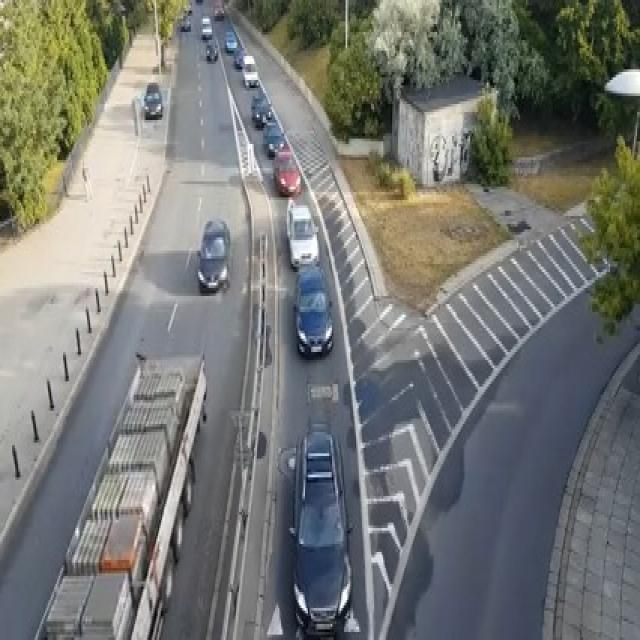bus: (31, 350, 208, 638)
car: (288, 426, 352, 634), (293, 264, 333, 357), (197, 219, 230, 293), (286, 198, 318, 270), (272, 149, 300, 195), (143, 83, 162, 117), (252, 96, 272, 128), (242, 54, 258, 86), (267, 128, 284, 155), (206, 38, 218, 62), (224, 29, 237, 51), (233, 45, 246, 67), (200, 16, 212, 37), (180, 13, 191, 30), (213, 5, 224, 19), (184, 0, 192, 13), (195, 0, 203, 3)
